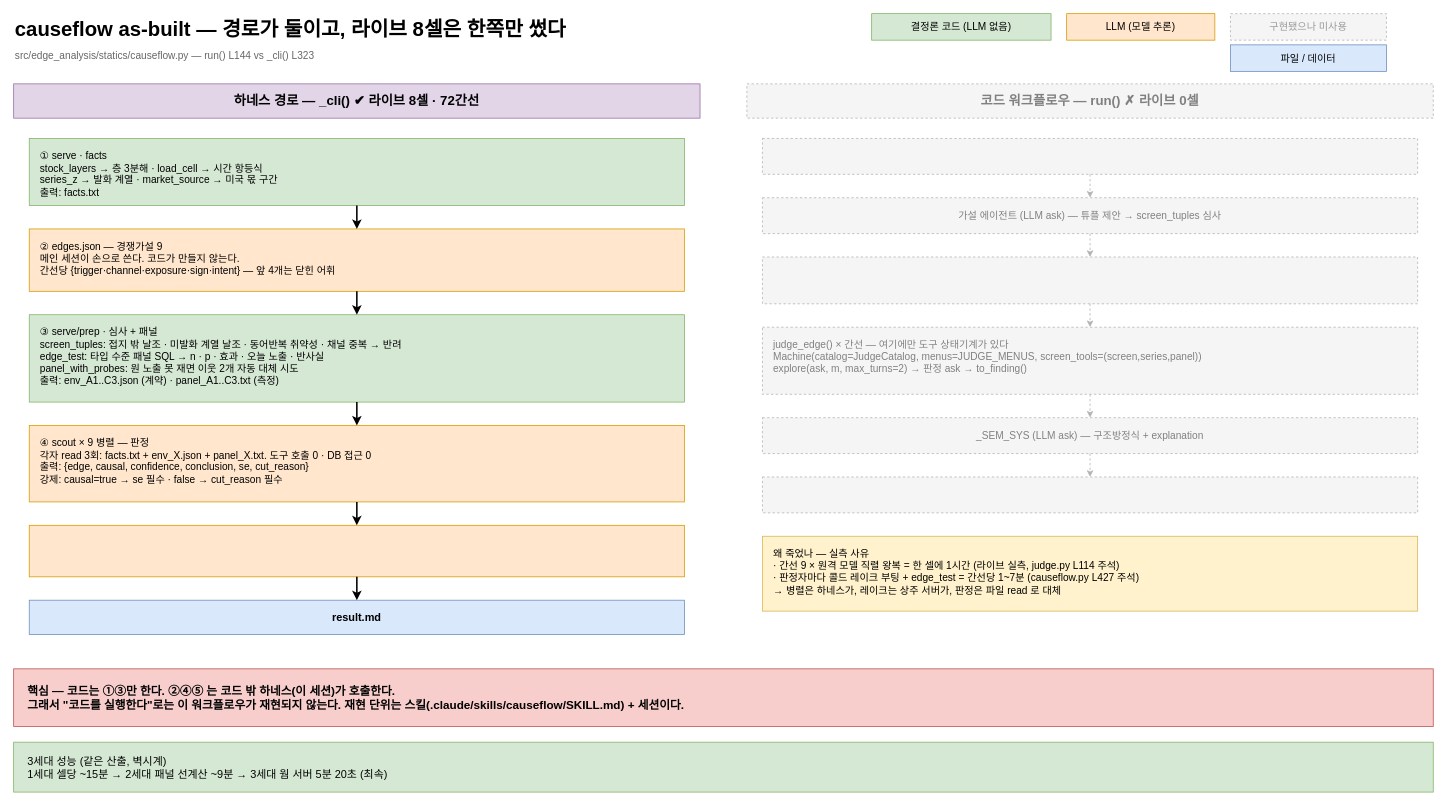
Image size: 1447x806. Some labels were removed from this diagram. The shapes that lost their labels are listed below. From the top down, each one's box as (x1, y1, x2, y2) in pixels, then its label:
(762, 138, 1418, 174): run(lake, ask, ...) — 진입
(762, 256, 1418, 304): dag.TargetDAG — merge() 공통요인 검출 · validate() 채널 중복 반려 CEdge · Finding 객체 생성
(762, 476, 1418, 513): 서술 문자열 (stdout)
(28, 525, 684, 577): ⑤ 메인 세션 — 구조방정식 + 서술 판정문 9개를 시간 항등식에 되꽂아 SEM 식을 세우고, 아닌 것부터 말한다
